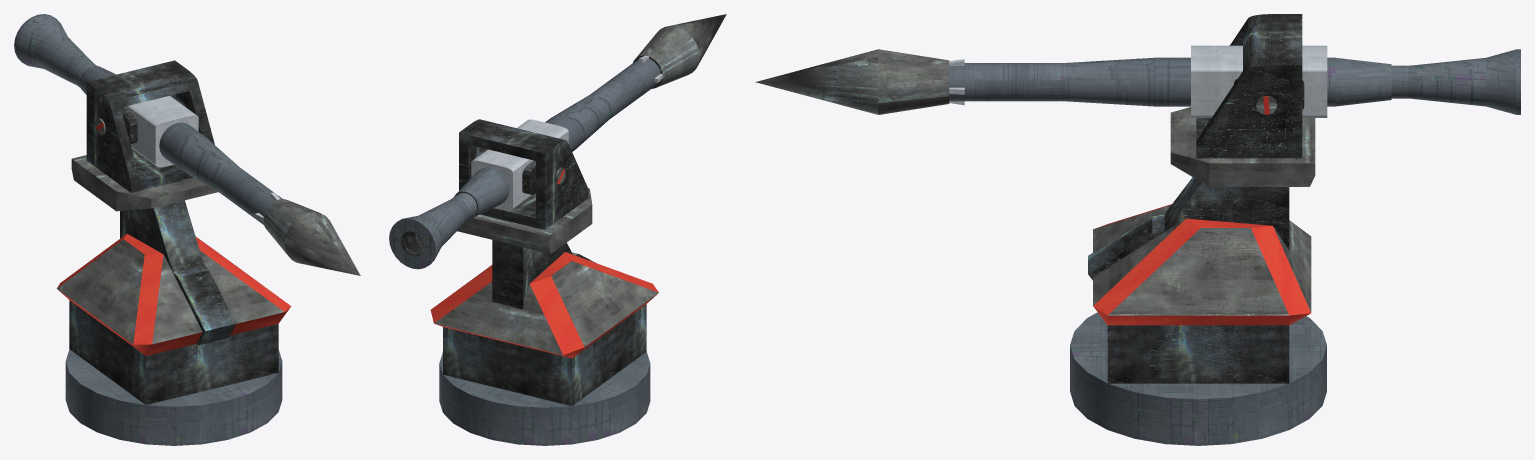
The model's file is 火箭筒RPG[武器]贴图版.fbx.
The picture shows the model from 3 angles, left to right: view 1: azimuth 30°, elevation 25°; view 2: azimuth 150°, elevation 25°; view 3: azimuth 270°, elevation 25°; orthographic projection. The views are drawn at different scales.
Visible parts, largest first — view 1: Group9, Group2, Group4, Group3; view 2: Group9, Group2, Group3, Group4; view 3: Group9, Group2, Group4, Group3.
Part boxes in pixels (x1,y1,x2,y2): Group9: [57, 60, 291, 445]; Group2: [73, 61, 282, 224]; Group4: [263, 199, 360, 275]; Group3: [14, 14, 92, 84]; Group9: [430, 119, 658, 445]; Group2: [452, 59, 660, 220]; Group3: [389, 198, 470, 269]; Group4: [633, 14, 726, 88]; Group9: [1070, 14, 1326, 445]; Group2: [949, 45, 1408, 117]; Group4: [755, 49, 949, 114]; Group3: [1408, 49, 1520, 114].
Bounding box in the file's own units: 1.6 × 2.42 × 4.77.
